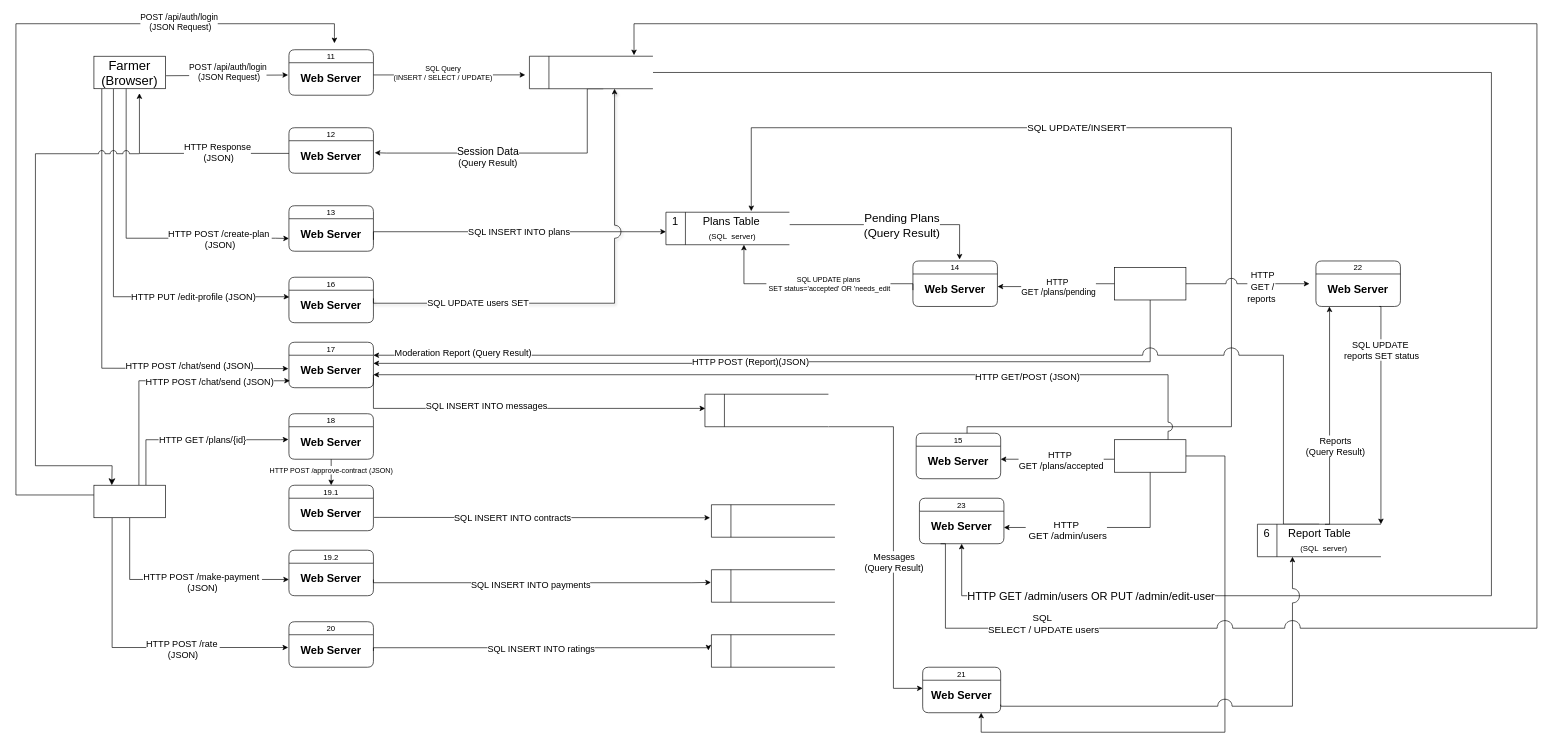
Some shapes in this 1554 by 749 pixel diagram are drawn without their labels. The centre of each missing label's shape, as x and y in pixels:
1 User Table (SQL server): the point at 591,72
2 Messages Table (SQL server): the point at 766,410
3 Documents Table (SQL server): the point at 773,520
4 Payment Table (SQL server): the point at 773,585
5 Rating Table (SQL server): the point at 773,650
Admin (Browser): the point at 1150,455
Expert (Browser): the point at 1150,283
Investor (Browser): the point at 129,501
